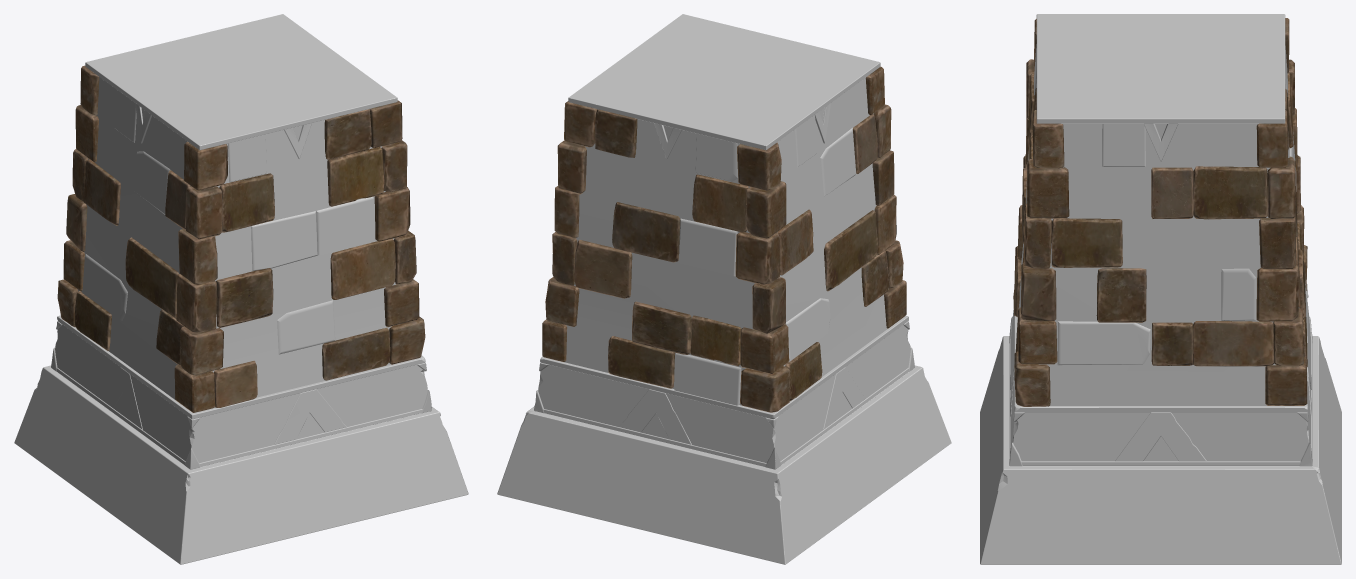
3 renders of one model, left to right at view 1: azimuth 30°, elevation 25°; view 2: azimuth 150°, elevation 25°; view 3: azimuth 270°, elevation 25°, orthographic. The views are drawn at different scales.
Visible parts, largest first — view 1: SM_DK_20m_TowerBase_01_LOD0; view 2: SM_DK_20m_TowerBase_01_LOD0; view 3: SM_DK_20m_TowerBase_01_LOD0.
Boxes of the visible parts, left/top/right/bottom form: SM_DK_20m_TowerBase_01_LOD0: left=14, top=14, right=468, bottom=564; SM_DK_20m_TowerBase_01_LOD0: left=497, top=14, right=951, bottom=564; SM_DK_20m_TowerBase_01_LOD0: left=980, top=14, right=1341, bottom=564.
Size of the model in its own units: 9.36 by 12.06 by 9.36.
